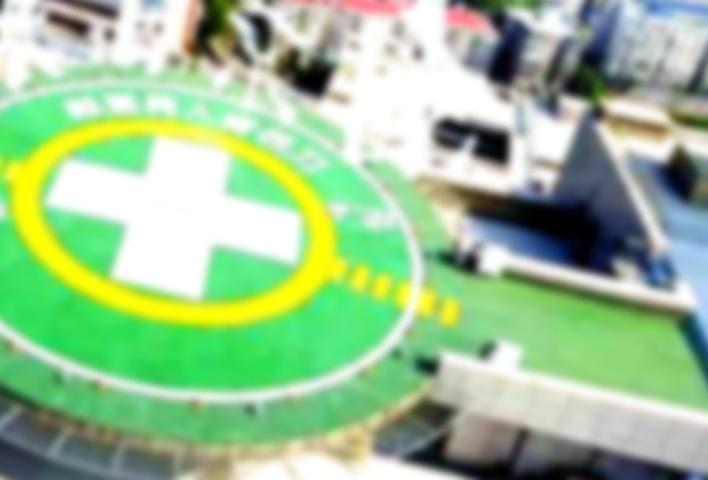Apron: (6, 112, 345, 329)
